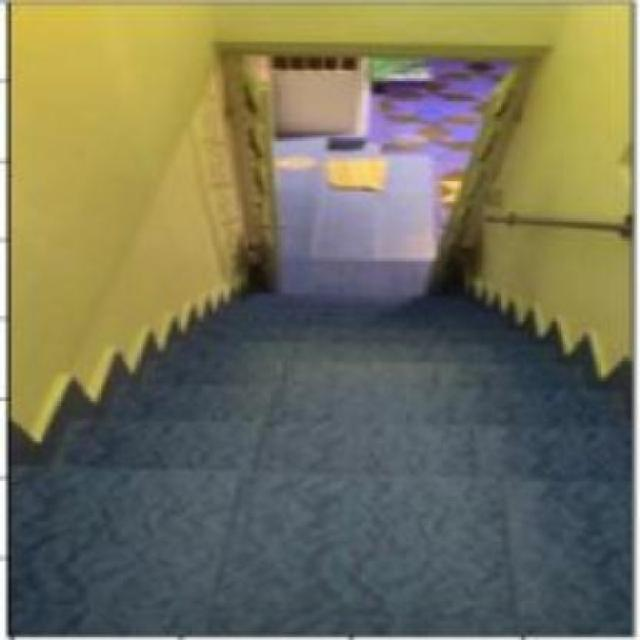stair: (37, 272, 640, 518)
